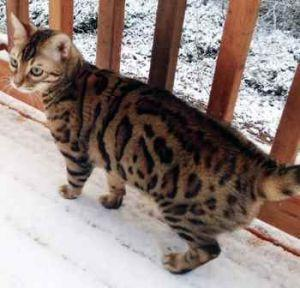bengal: (1, 3, 84, 99)
